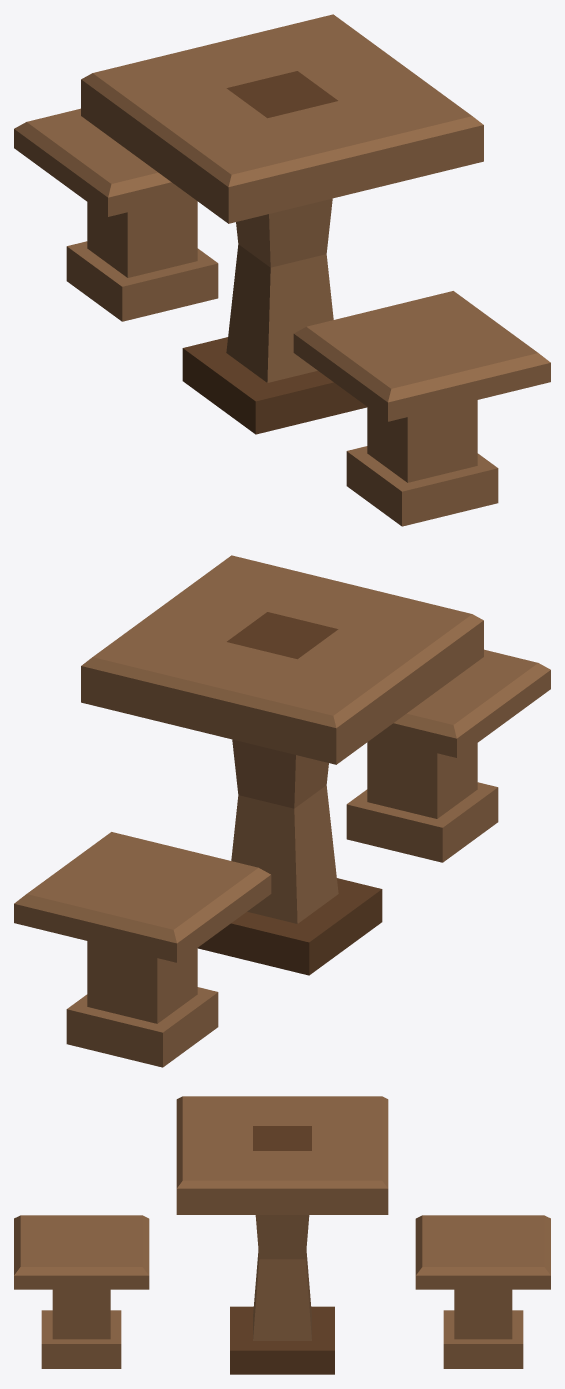
File: TableSet_02.fbx
The picture shows the model from 3 angles, top to bottom: view 1: azimuth 30°, elevation 25°; view 2: azimuth 150°, elevation 25°; view 3: azimuth 270°, elevation 25°; orthographic projection. The views are drawn at different scales.
Visible parts, largest first — view 1: TableSet_02; view 2: TableSet_02; view 3: TableSet_02.
Boxes of the visible parts, left/top/right/bottom form: TableSet_02: left=14, top=14, right=550, bottom=526; TableSet_02: left=14, top=555, right=550, bottom=1067; TableSet_02: left=14, top=1096, right=550, bottom=1374.
Size of the model in its own units: 1.32 by 1.47 by 3.34.
